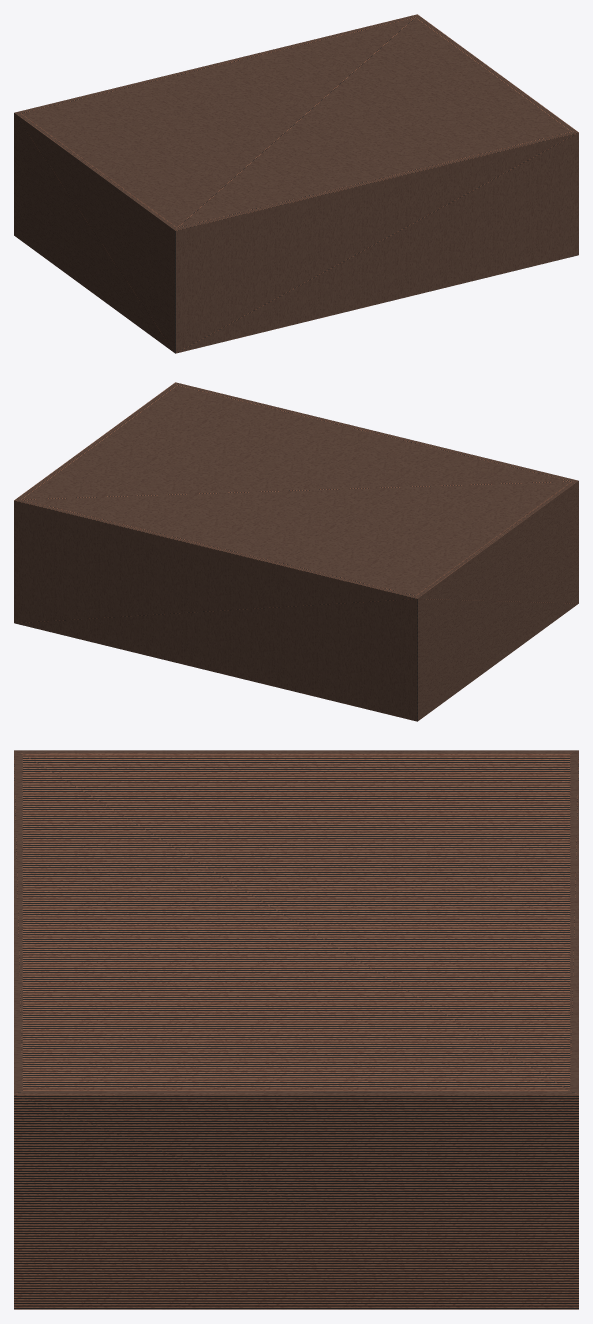
File: physicslabwalls.glb
3 views of the same model, one above another, from view 1: azimuth 30°, elevation 25°; view 2: azimuth 150°, elevation 25°; view 3: azimuth 270°, elevation 25° (orthographic). The views are drawn at different scales.
Parts seen in each view (by area): view 1: walls; view 2: walls; view 3: walls.
Part boxes in pixels (x1,y1,x2,y2): walls: (14,14,578,353); walls: (14,382,578,721); walls: (14,750,578,1309).
Size of the model in its own units: 9.25 by 2.69 by 6.41.
1 material, 1 textured.
